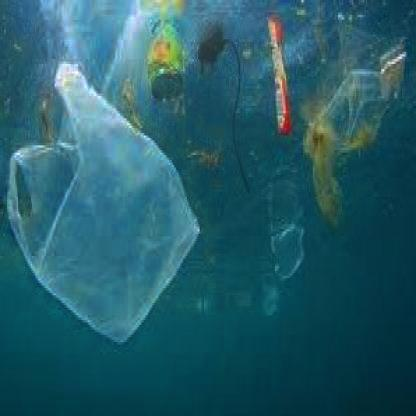can: (149, 10, 186, 101)
pbag: (8, 57, 202, 344)
